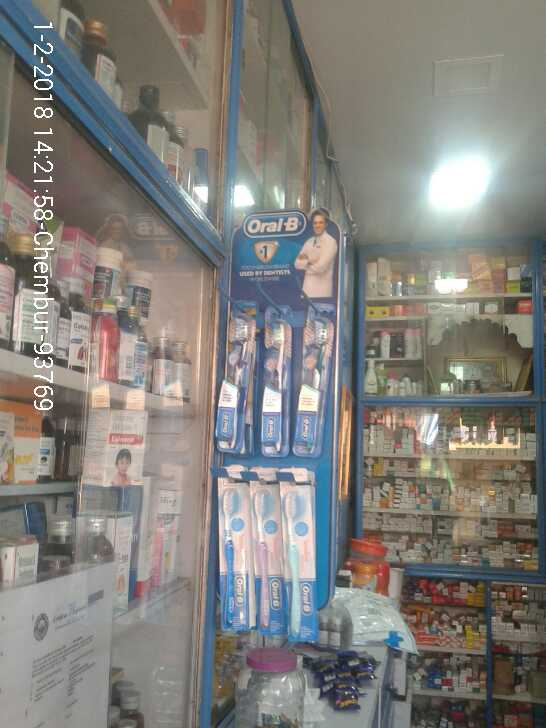oralb: (247, 490, 282, 639), (297, 307, 329, 463), (219, 313, 249, 450), (261, 321, 291, 458), (289, 482, 314, 642), (221, 477, 245, 631)
